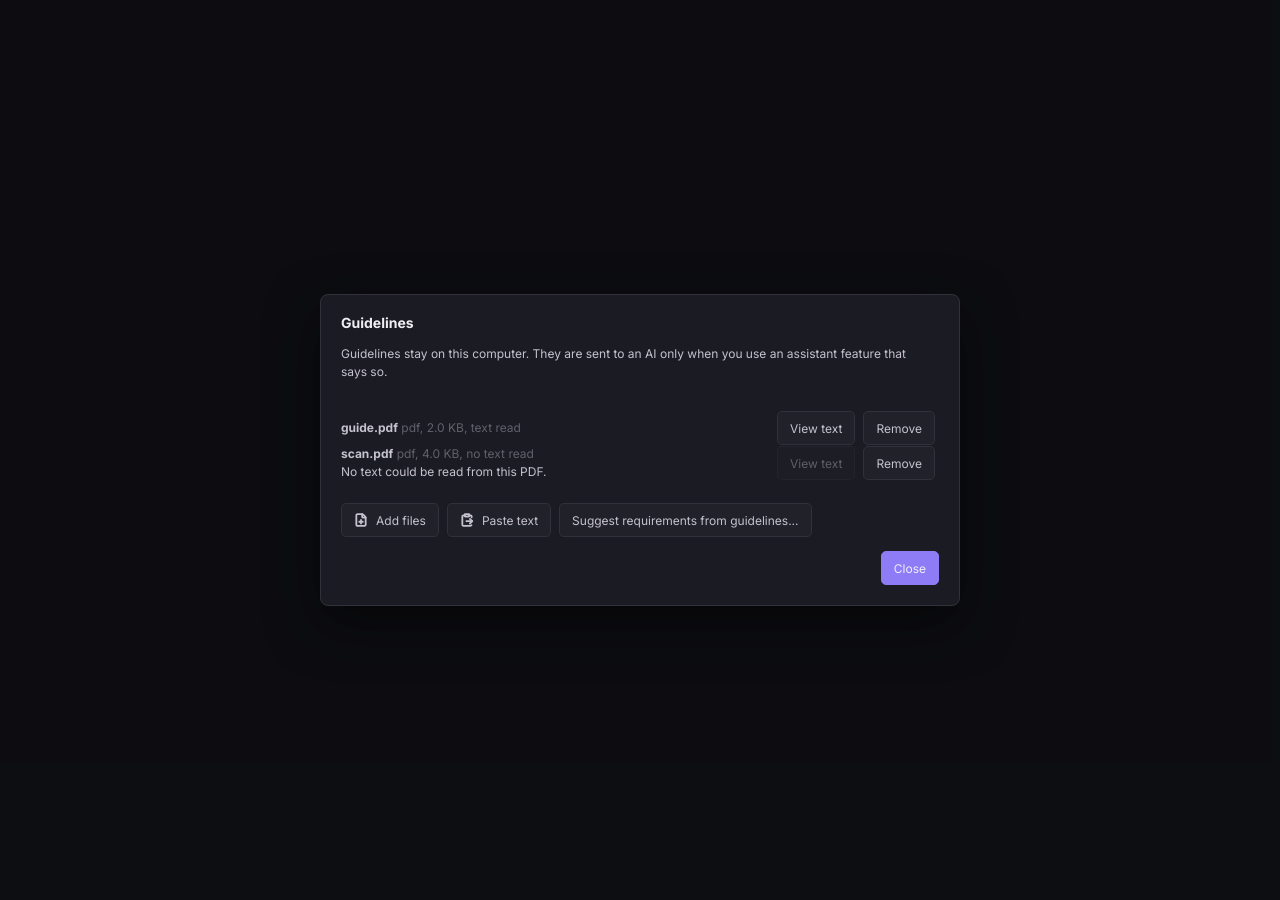
Test case: GuidelinesDialog › views text with a truncation note
Click the button "View text" in the row of "guide.pdf" at coordinates (816, 428), box top-left (777, 412), bottom-right (856, 446)
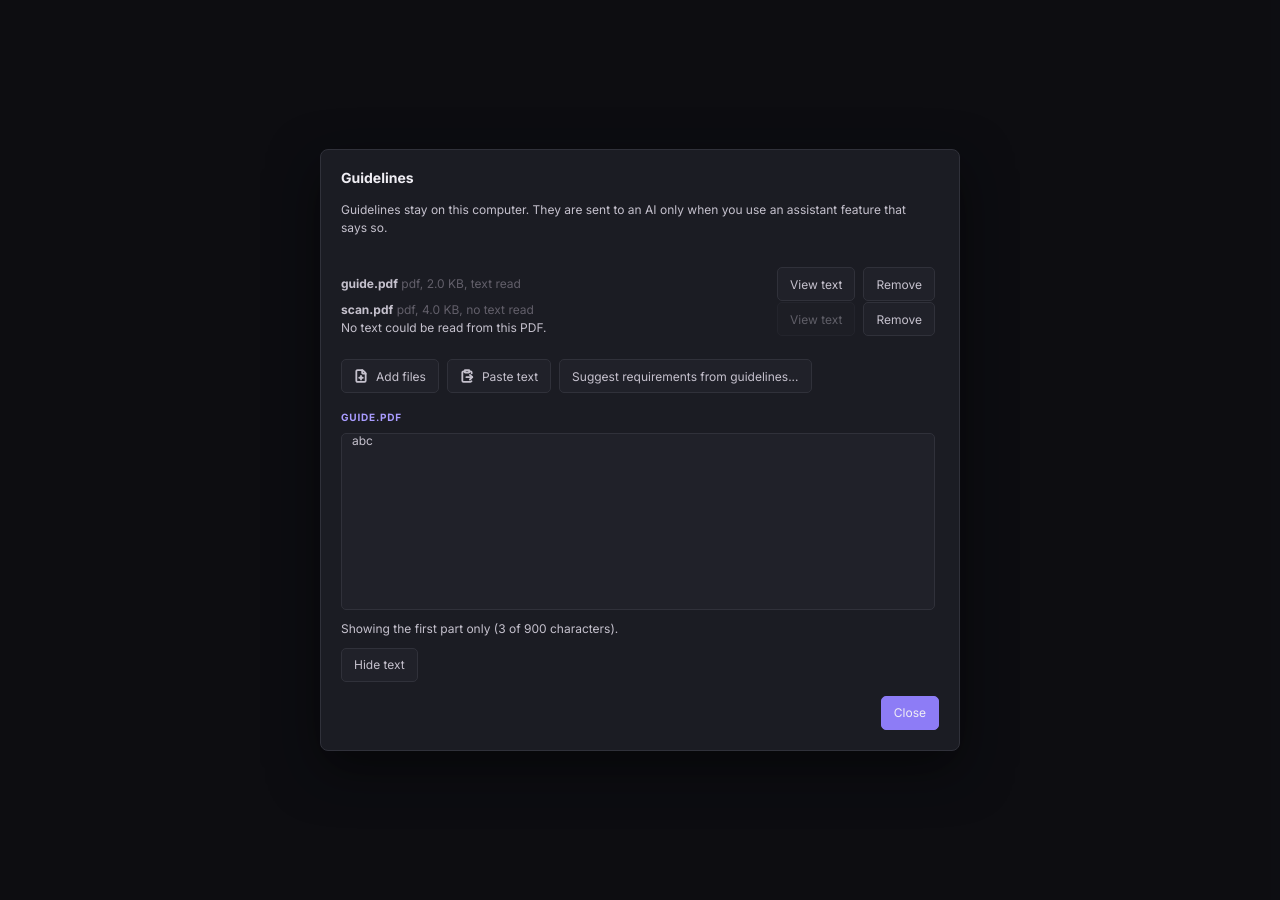
Now the text "first part only" is shown, box top-left (341, 621), bottom-right (498, 636)
Now the text box named "Guideline text view" holds "abc", box top-left (341, 433), bottom-right (935, 610)
